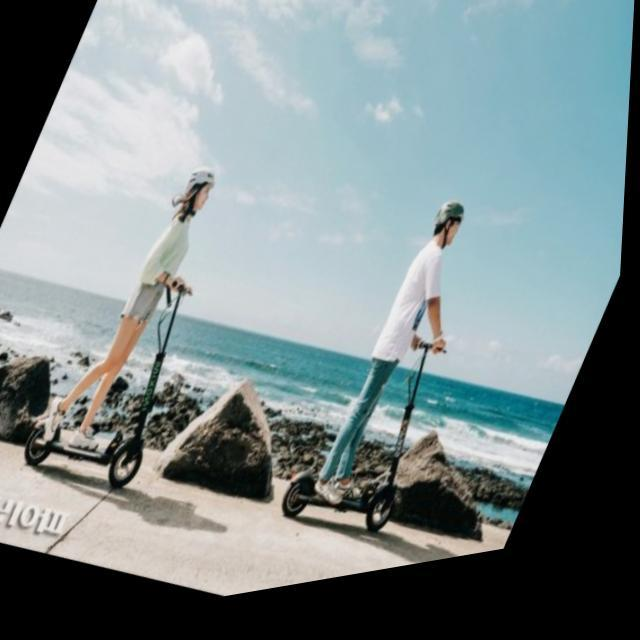Helmet: (165, 160, 219, 231), (425, 193, 469, 254)
